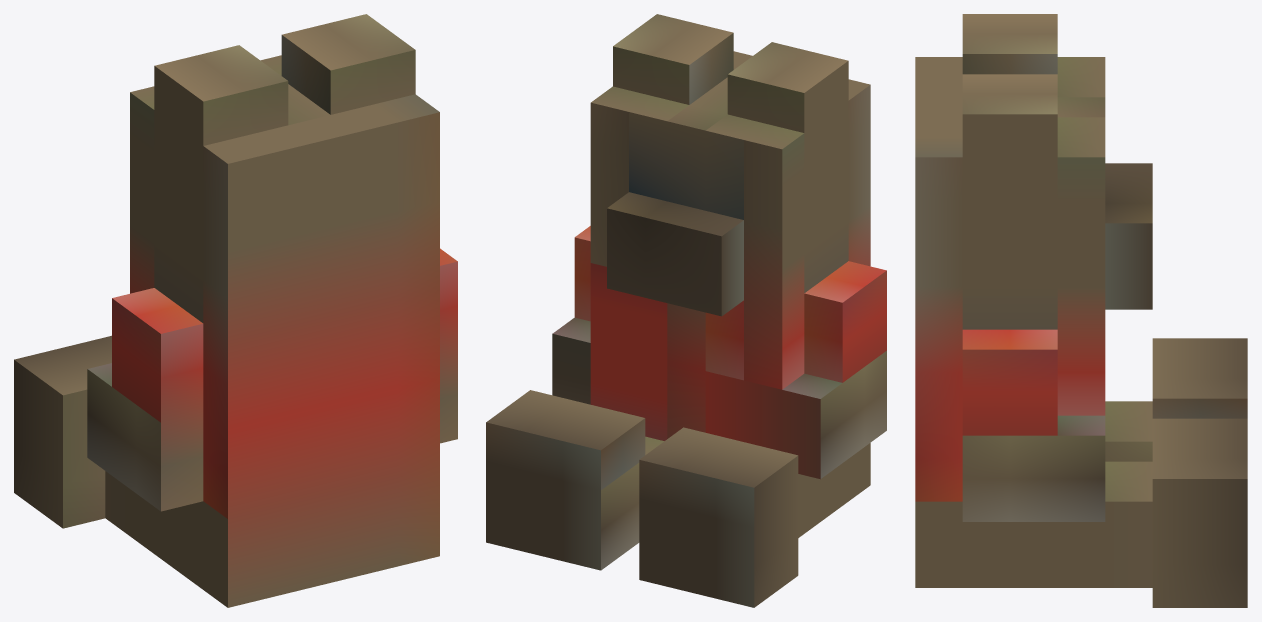
The model's file is TeddyBearDarkBrownWithRedShirt_01.obj.
3 views of the same model, side by side, from view 1: azimuth 30°, elevation 25°; view 2: azimuth 150°, elevation 25°; view 3: azimuth 270°, elevation 25° (orthographic). The views are drawn at different scales.
Parts seen in each view (by area): view 1: TeddyBearDarkBrownWithRedShirt_01; view 2: TeddyBearDarkBrownWithRedShirt_01; view 3: TeddyBearDarkBrownWithRedShirt_01.
Boxes of the visible parts, x1,y1,x2,y2 form: TeddyBearDarkBrownWithRedShirt_01: (14, 14, 457, 607); TeddyBearDarkBrownWithRedShirt_01: (486, 14, 886, 607); TeddyBearDarkBrownWithRedShirt_01: (915, 14, 1247, 607).
Bounding box in the file's own units: 0.35 × 0.55 × 0.35.
